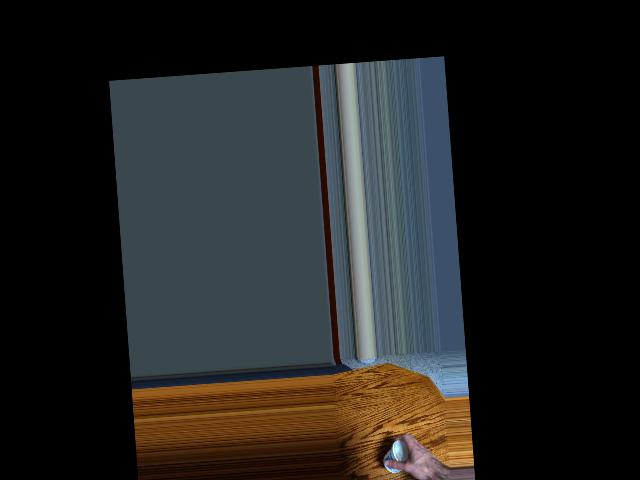cotage: (380, 433, 408, 475)
